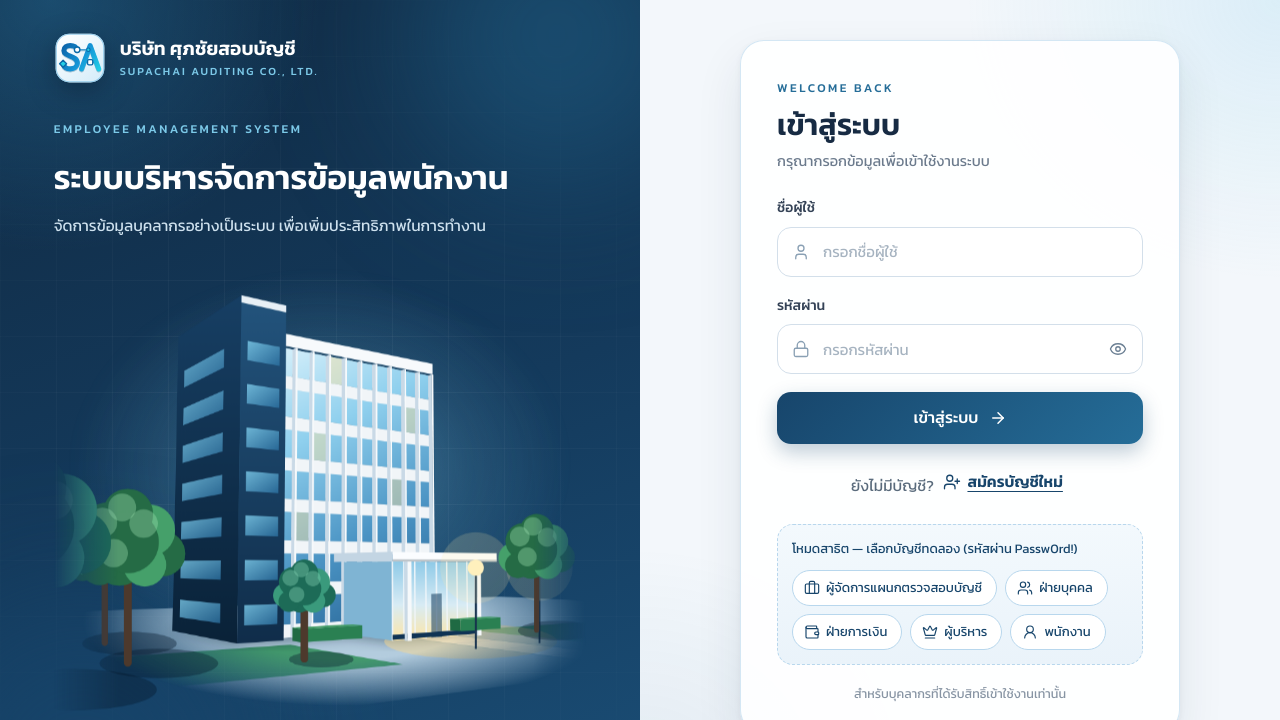
Test case: UC-01 login › shows Thai validation messages for empty fields
The width and height of the screenshot is (1280, 720).
Click the button "เข้าสู่ระบบ" at (960, 418), box [777,392,1143,444]
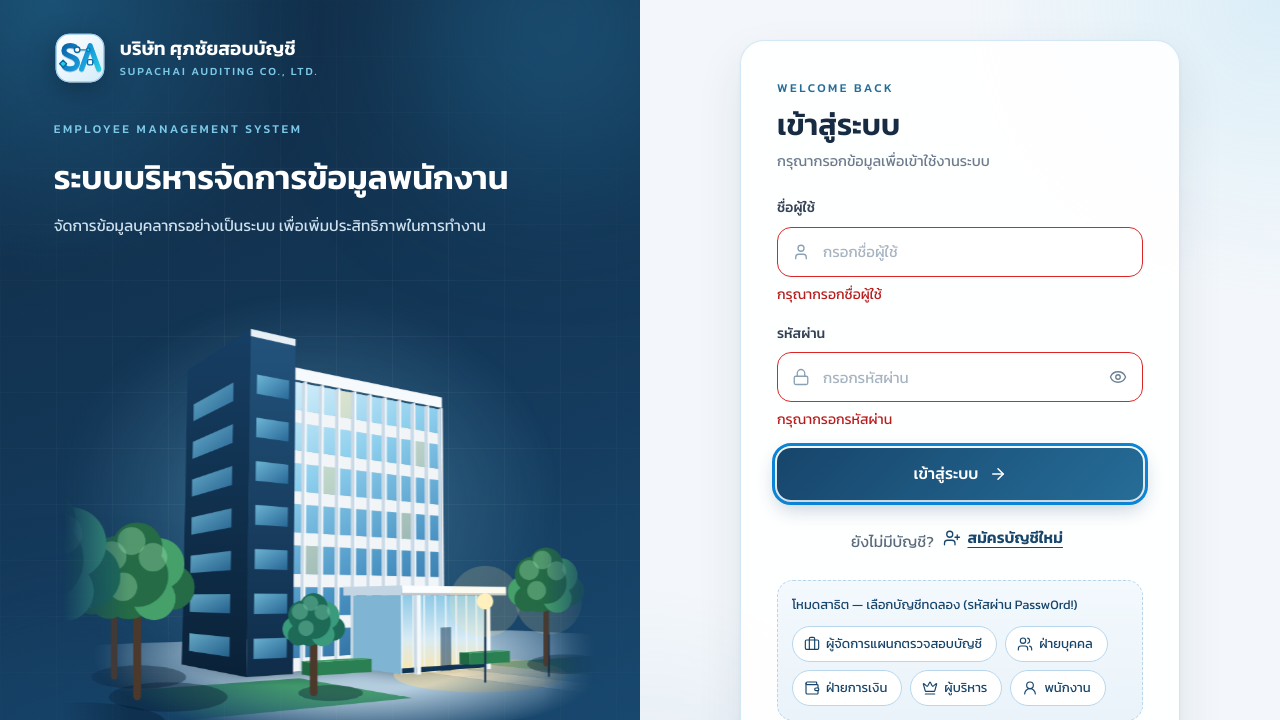
Expected: the text "กรุณากรอกชื่อผู้ใช้" is shown, [777,284,882,305]
Expected: the text "กรุณากรอกรหัสผ่าน" is shown, [777,409,892,430]
